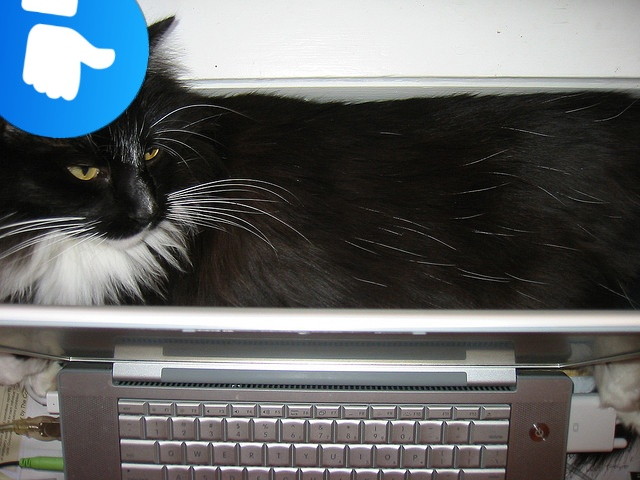like: (0, 0, 149, 138)
